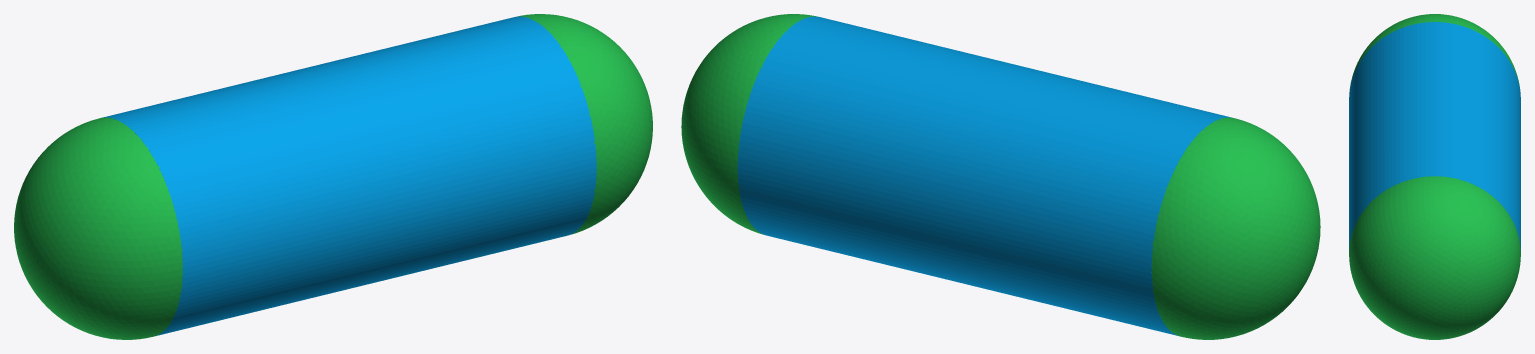
Rendered from bar.obj.
3 renders of one model, left to right at view 1: azimuth 30°, elevation 25°; view 2: azimuth 150°, elevation 25°; view 3: azimuth 270°, elevation 25°, orthographic. The views are drawn at different scales.
Parts seen in each view (by area): view 1: Object.1, Object.3, Object.2; view 2: Object.1, Object.3, Object.2; view 3: Object.1, Object.2, Object.3.
Part boxes in pixels (x1,y1,x2,y2): Object.1: [101, 16, 596, 335]; Object.3: [14, 117, 183, 339]; Object.2: [517, 14, 652, 234]; Object.1: [737, 16, 1232, 335]; Object.3: [1151, 117, 1320, 339]; Object.2: [681, 14, 816, 234]; Object.1: [1349, 22, 1520, 256]; Object.2: [1349, 176, 1520, 339]; Object.3: [1349, 14, 1520, 89].
Size of the model in its own units: 125 by 40 by 40.
